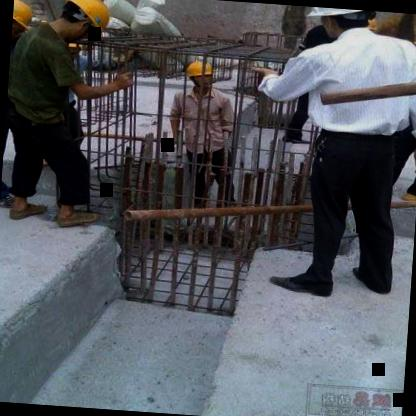helmet: (302, 6, 380, 46), (50, 0, 114, 47), (181, 58, 219, 92), (11, 0, 38, 46), (409, 23, 416, 64)
